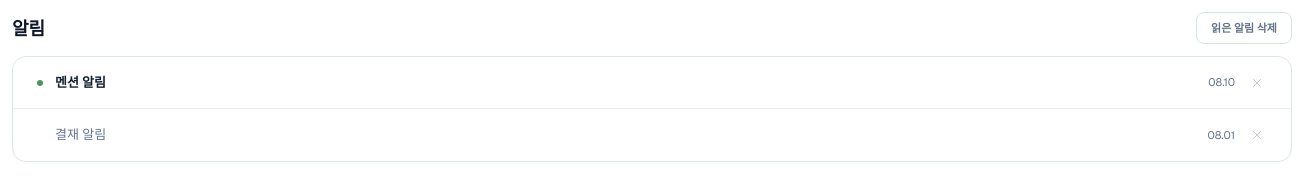
AlarmContainer › 읽은 알림 삭제를 클릭하면 읽은 알림만 모두 제거한다
Click the button "읽은 알림 삭제".
click(1244, 28)  # box [1196,12,1292,44]
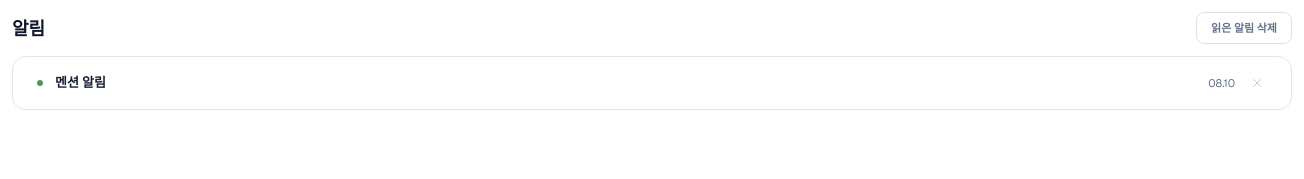
Expected: the text "멘션 알림" is shown, [55,73,106,93]
Expected: the button "결재 알림" is gone
